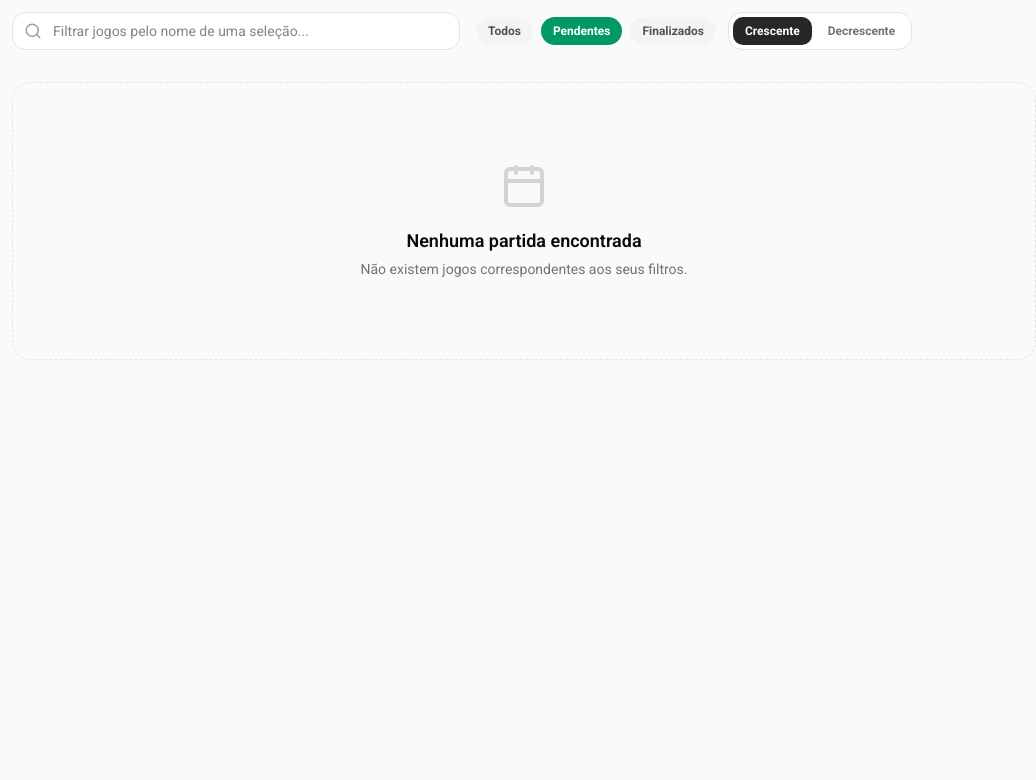
Test: PalpitesStats › deve exibir a lista de palpites individuais se o jogo ja tiver começado
This screenshot has width=1036, height=780.
Click the button "Todos" at (504, 31), box [476, 17, 533, 45]
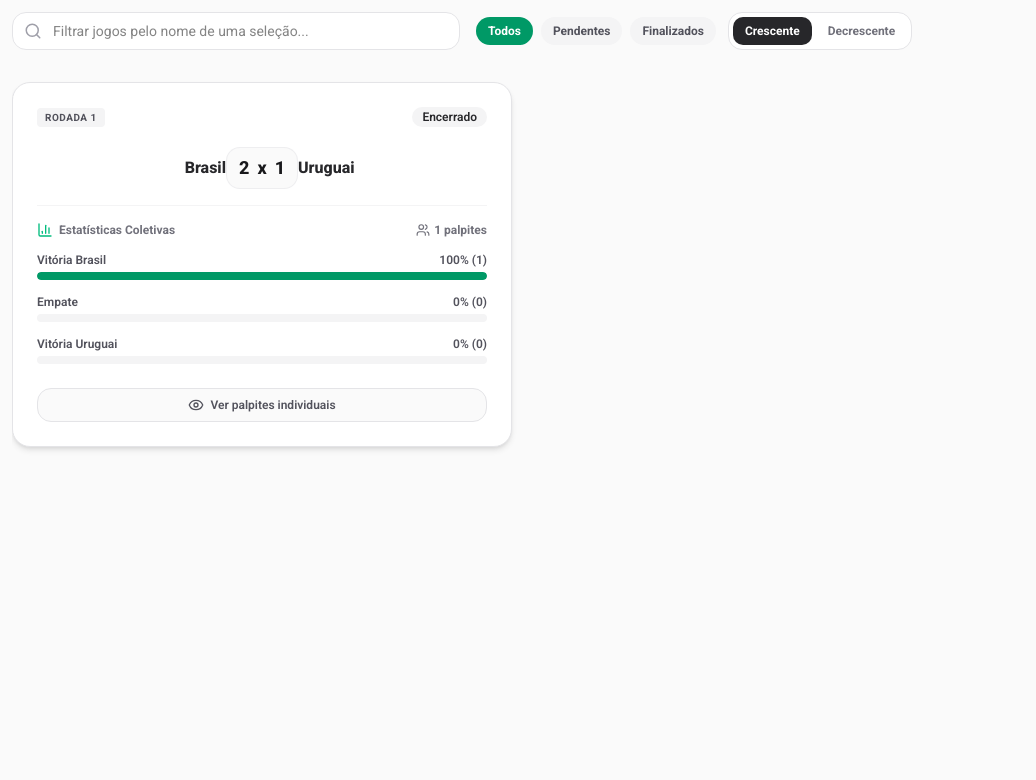
Click the button "Ver palpites individuais" at (262, 405), box [37, 388, 487, 422]
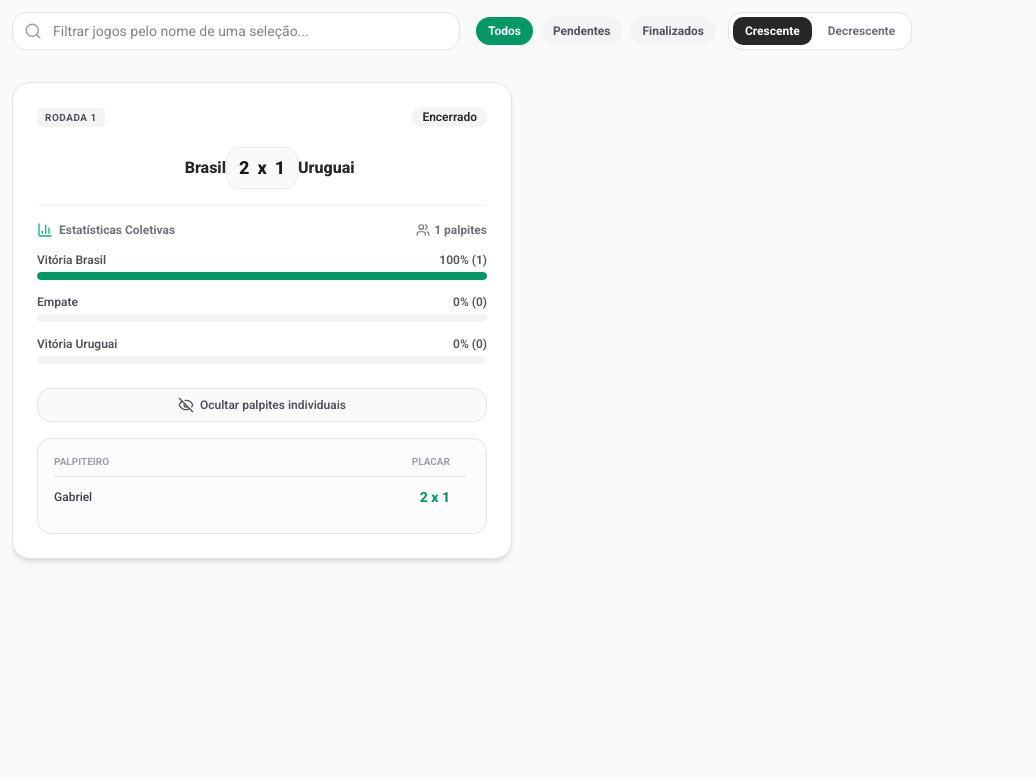
Expected: the text "Gabriel" is shown, [54, 477, 262, 517]
Expected: the text "2 x 1" is shown, [262, 477, 466, 517]
